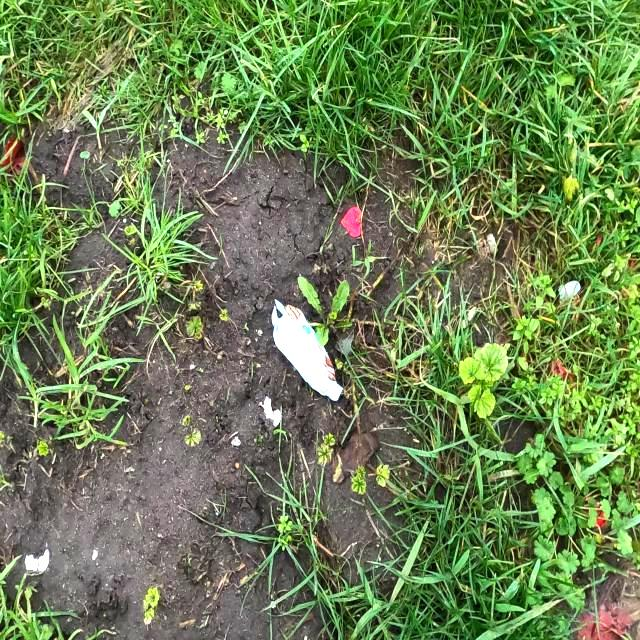Plastic: (268, 295, 344, 403)
